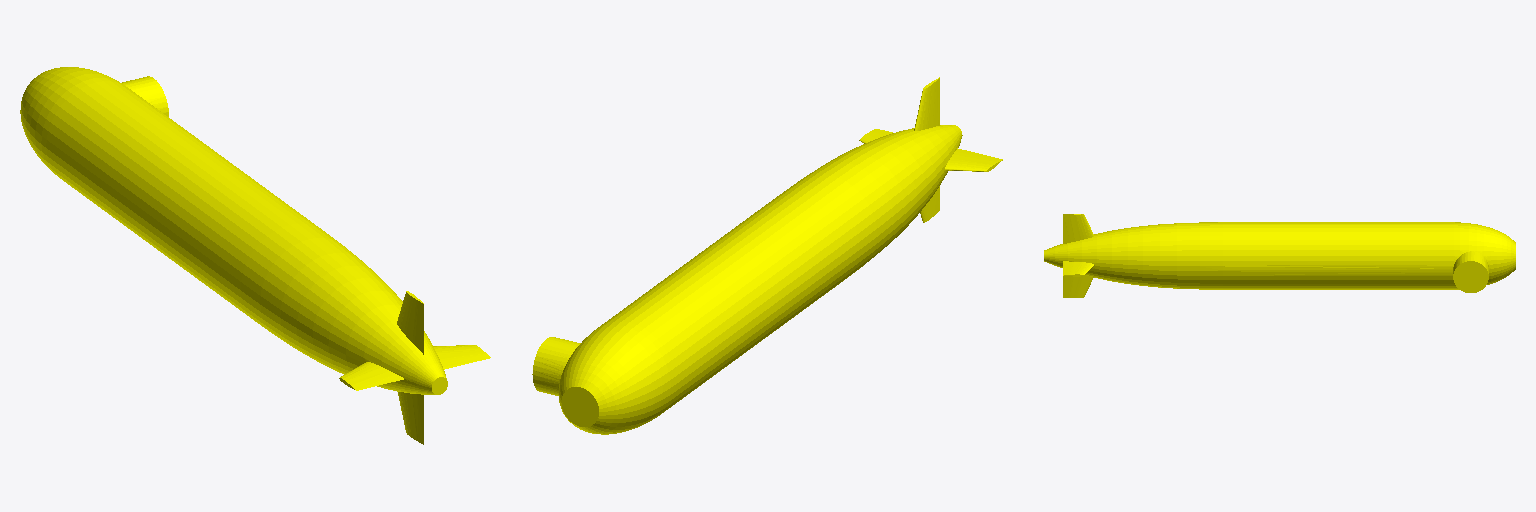
URDF robot description (remus100):
<?xml version="1.0"?>
<robot name="remus100">
  <link name="REMUS">
    <visual>
      <geometry>
        <mesh filename="home/dev/REMUS/src/imm/urdf/remus.dae"/>
      </geometry>
      <origin rpy="1.570796 0 1.570796" xyz="0 0 0"/>
      <material name="yellow">
        <color rgba="1 1 0 1"/>
      </material>
    </visual>
  </link>
  
</robot>

--- Facts derived from the render (not from the file) ---
The picture shows the robot from 3 angles, left to right: view 1: azimuth 30°, elevation 25°; view 2: azimuth 150°, elevation 25°; view 3: azimuth 270°, elevation 25°; orthographic projection.
Model remus100 with 1 links and 0 joints (none), rooted at REMUS, posed all joints at 0.
Links seen in each view (by area): view 1: REMUS; view 2: REMUS; view 3: REMUS.
Boxes of the visible links, bbox=[...] form: REMUS: bbox=[20, 67, 490, 444]; REMUS: bbox=[532, 77, 1002, 434]; REMUS: bbox=[1044, 214, 1515, 297].
Bounding box of the posed robot: 0.273 × 1.33 × 0.262 m (x, y, z).
Meshes: 1 distinct files referenced, 1 mesh visuals loaded (1 Collada DAE).
